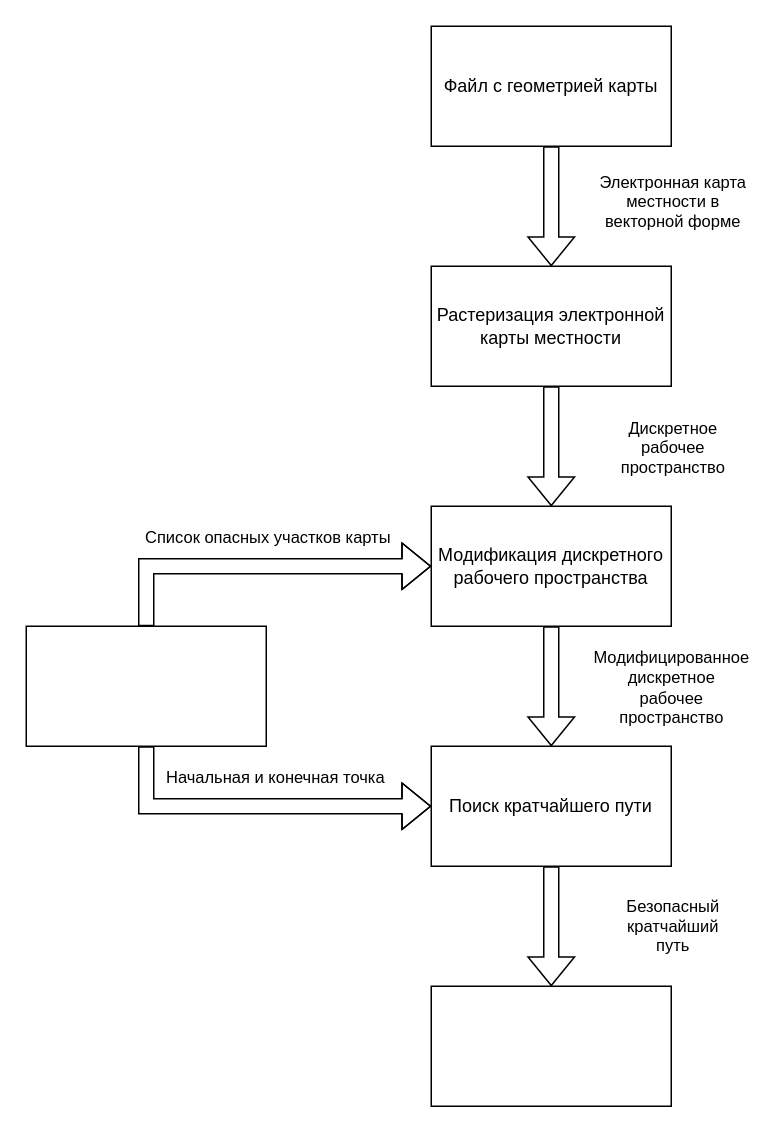
Some shapes in this 774 by 1133 pixel diagram are drawn without their labels. The shapes that lost their labels are listed below. From the top down, each one's centre as x and y in pixels, then its label:
At point 145,685: "Ввод пользователя".
At point 550,1045: "Вывод на экран".
